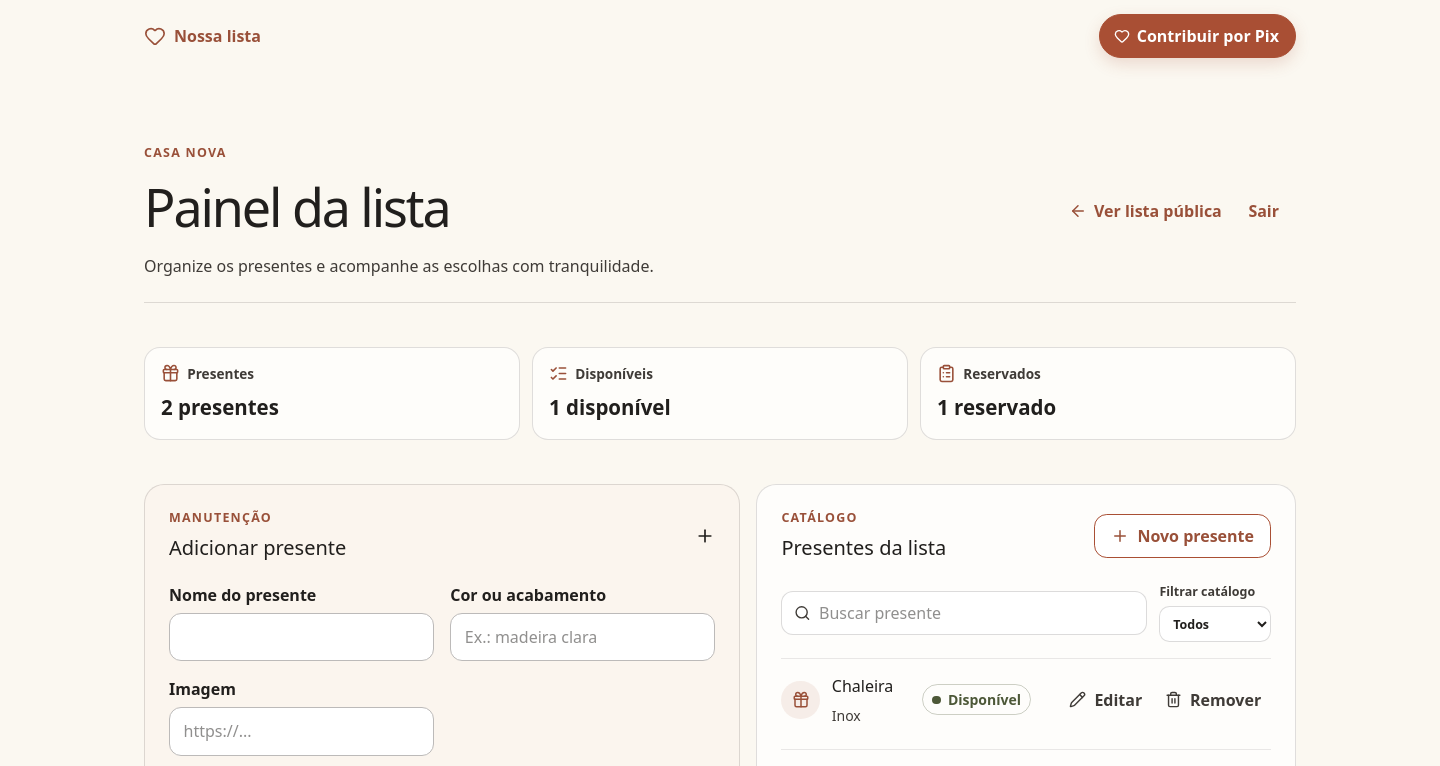
AdminPage › resume a lista e filtra os presentes reservados
Check: the text "2 presentes" is shown, box [161,393,279,421]
Check: the text "1 disponível" is shown, box [549,393,671,421]
Step 1. Select "Reservados" in the dropdown labelled "Filtrar catálogo" → x=1215, y=624, box [1159,606,1271,642]
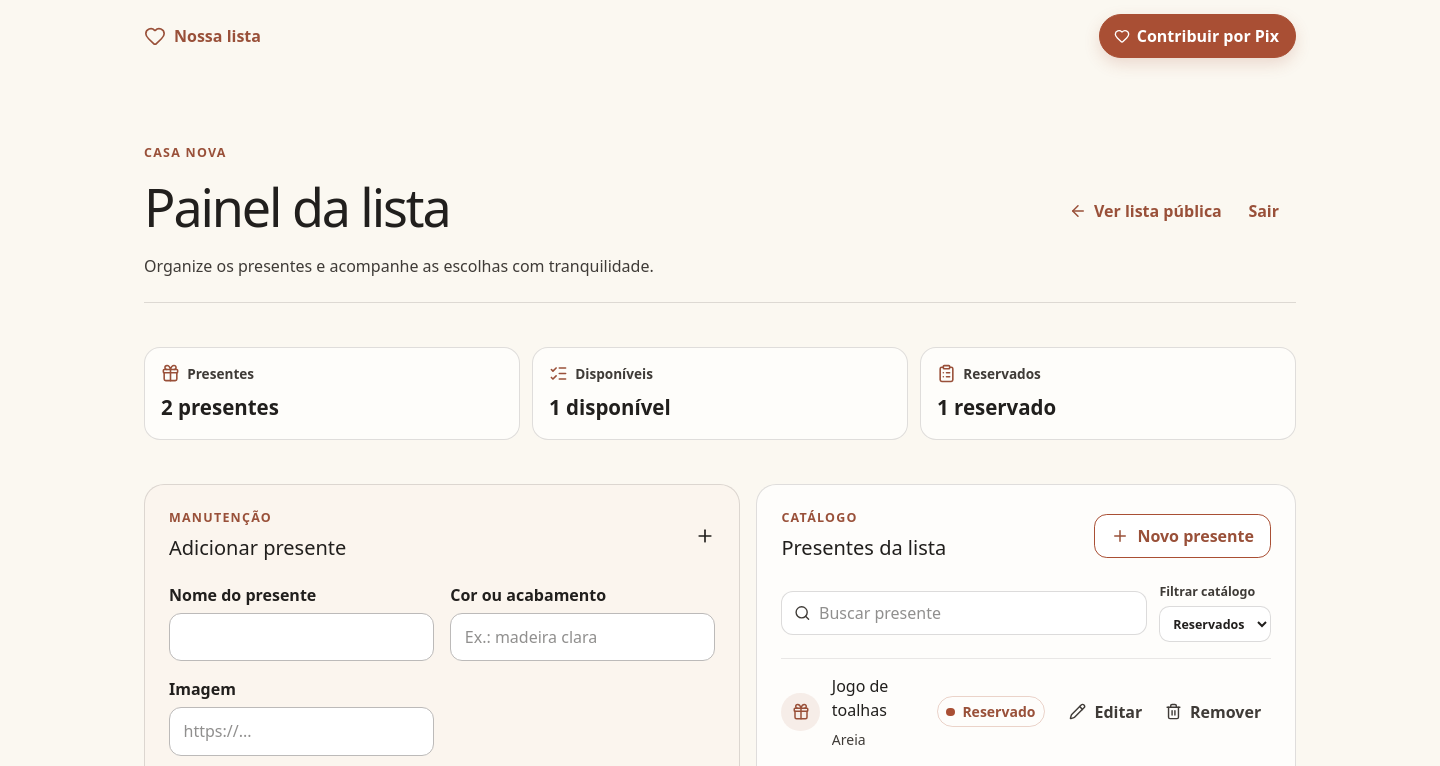
Check: the heading "Jogo de toalhas" is shown, box [832,675,888,721]
Check: the heading "Chaleira" is gone
